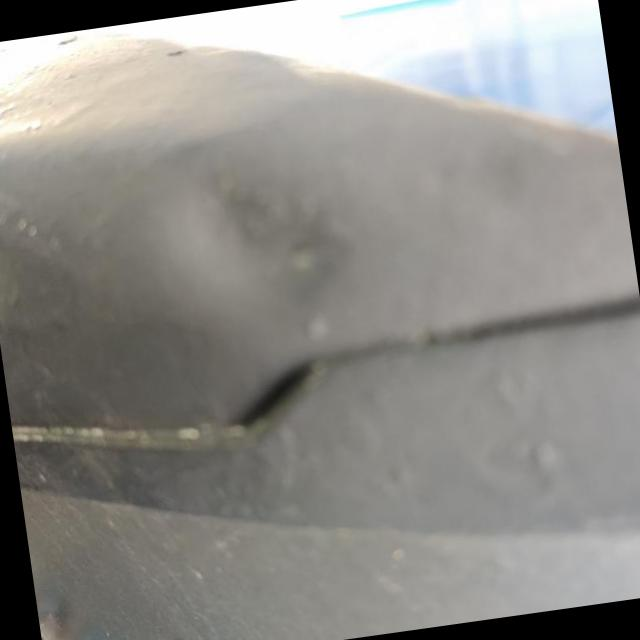Dent: (127, 124, 381, 342)
